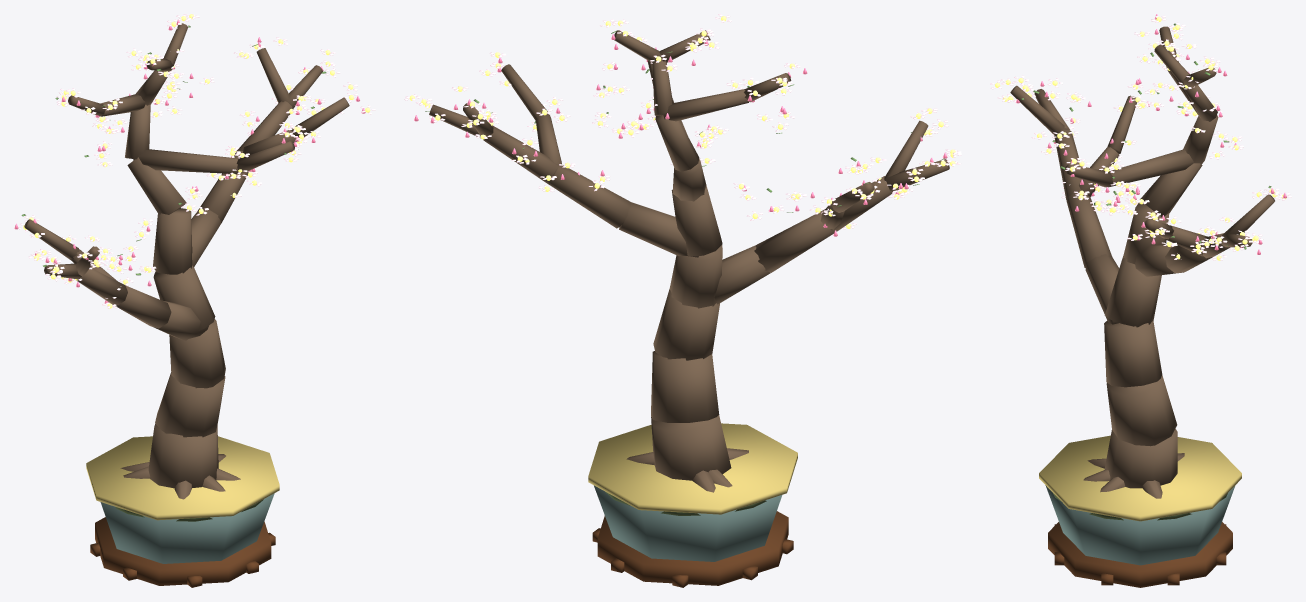
The model's file is cay_hoa_dao.glb.
The picture shows the model from 3 angles, left to right: view 1: azimuth 30°, elevation 25°; view 2: azimuth 150°, elevation 25°; view 3: azimuth 270°, elevation 25°; orthographic projection. The views are drawn at different scales.
Parts seen in each view (by area): view 1: Cylinder; view 2: Cylinder; view 3: Cylinder.
Part boxes in pixels (x1,y1,x2,y2): Cylinder: [14, 14, 375, 587]; Cylinder: [404, 14, 961, 587]; Cylinder: [990, 14, 1291, 587].
Bounding box in the file's own units: 3.05 × 3.6 × 1.94.
